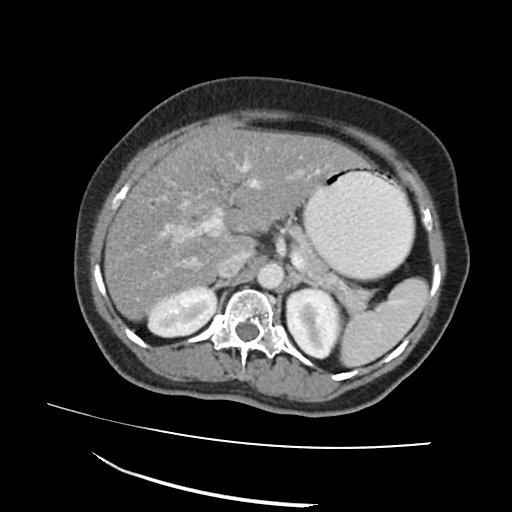aorta: (257, 283, 262, 290)
